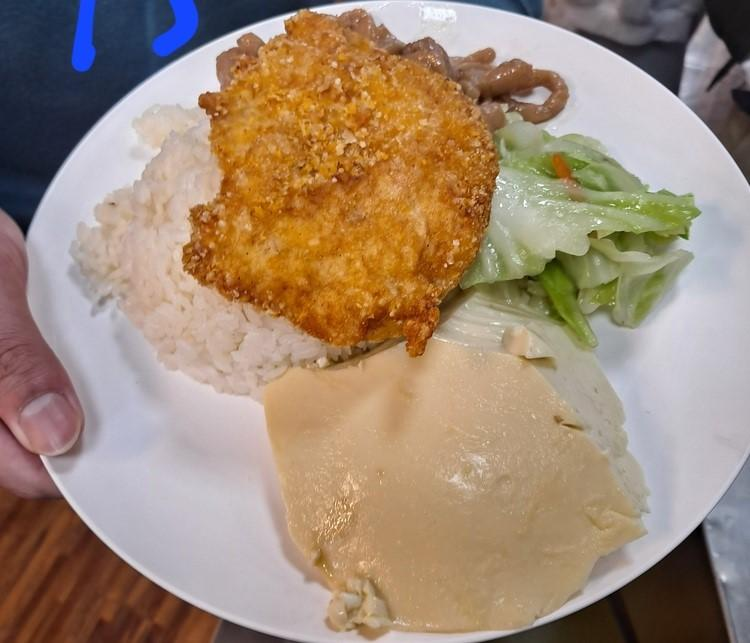big fried chicken leg: (13, 1, 750, 643)
braised fish fillet: (253, 306, 646, 634), (70, 106, 324, 393), (454, 125, 703, 340)
braised pork: (181, 9, 497, 356), (210, 9, 569, 123)
